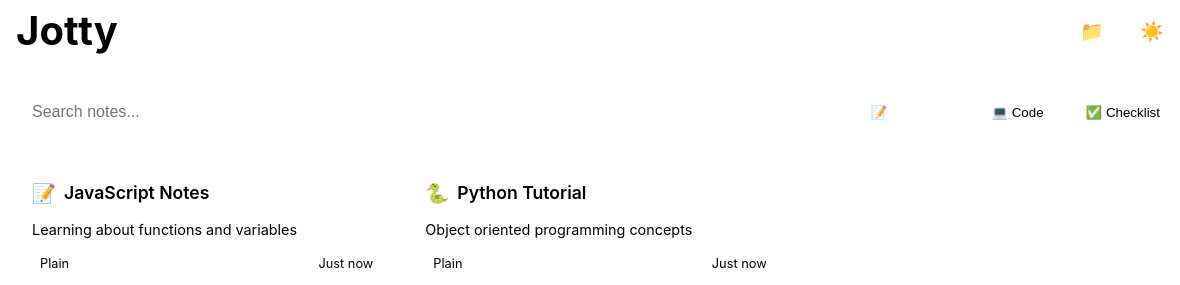
Test: Notes App Integration Tests › should handle search functionality
expect the heading "JavaScript Notes" is shown: met, box 64,182 -> 210,203
expect the heading "Python Tutorial" is shown: met, box 457,182 -> 586,203
// Search for JavaScript
Type "JavaScript" into the field with placeholder "Search notes..." at {"x": 425, "y": 112}, box 16,91 -> 834,133
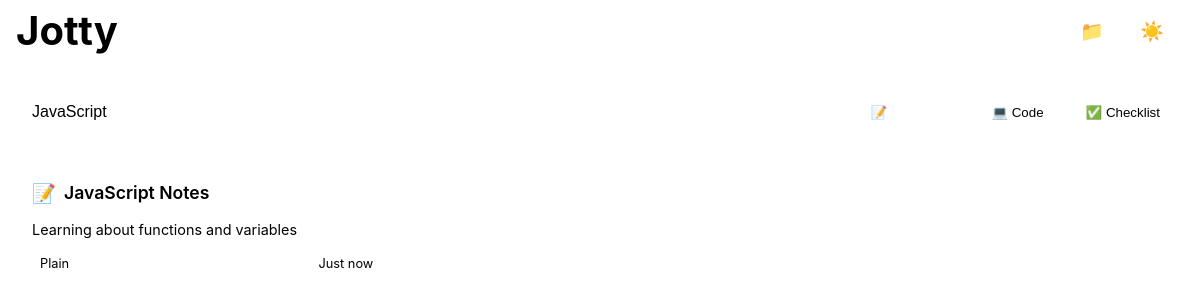
expect the heading "JavaScript Notes" is shown: met, box 64,182 -> 210,203
expect the heading "Python Tutorial" is gone: met
// Clear search
Clear the field with placeholder "Search notes..." at {"x": 425, "y": 112}, box 16,91 -> 834,133
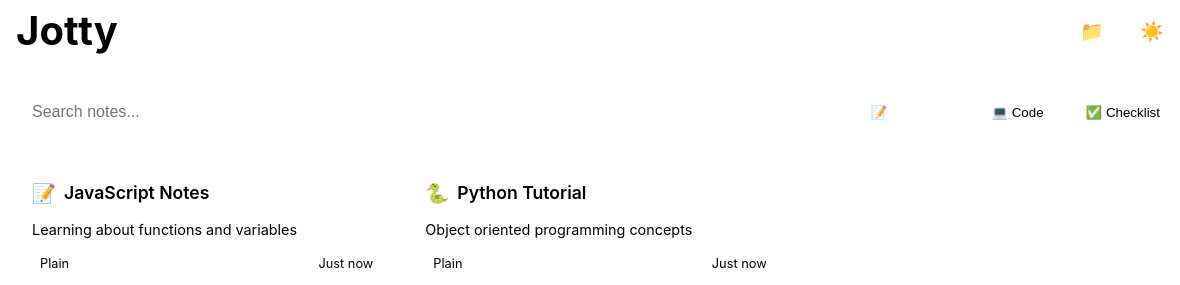
expect the heading "JavaScript Notes" is shown: met, box 64,182 -> 210,203
expect the heading "Python Tutorial" is shown: met, box 457,182 -> 586,203
